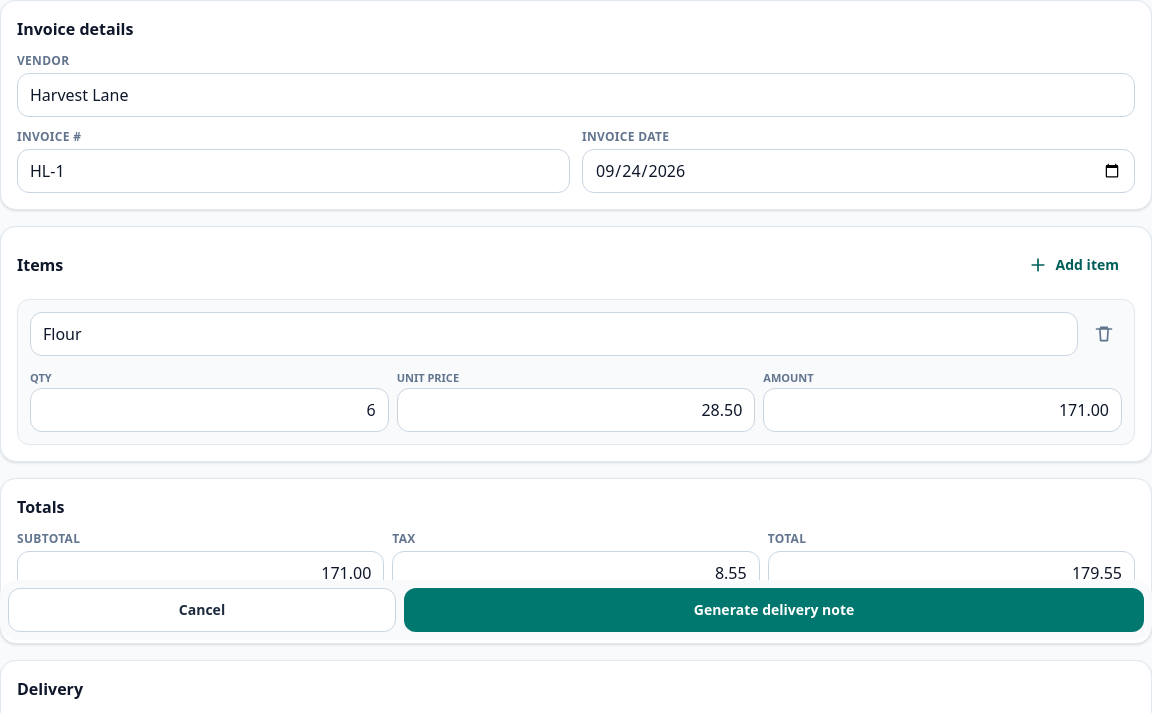
Test: ReviewForm › lets you remove an item
Click the button named "remove item 1" at (1104, 334), box [1086,316,1122,352]
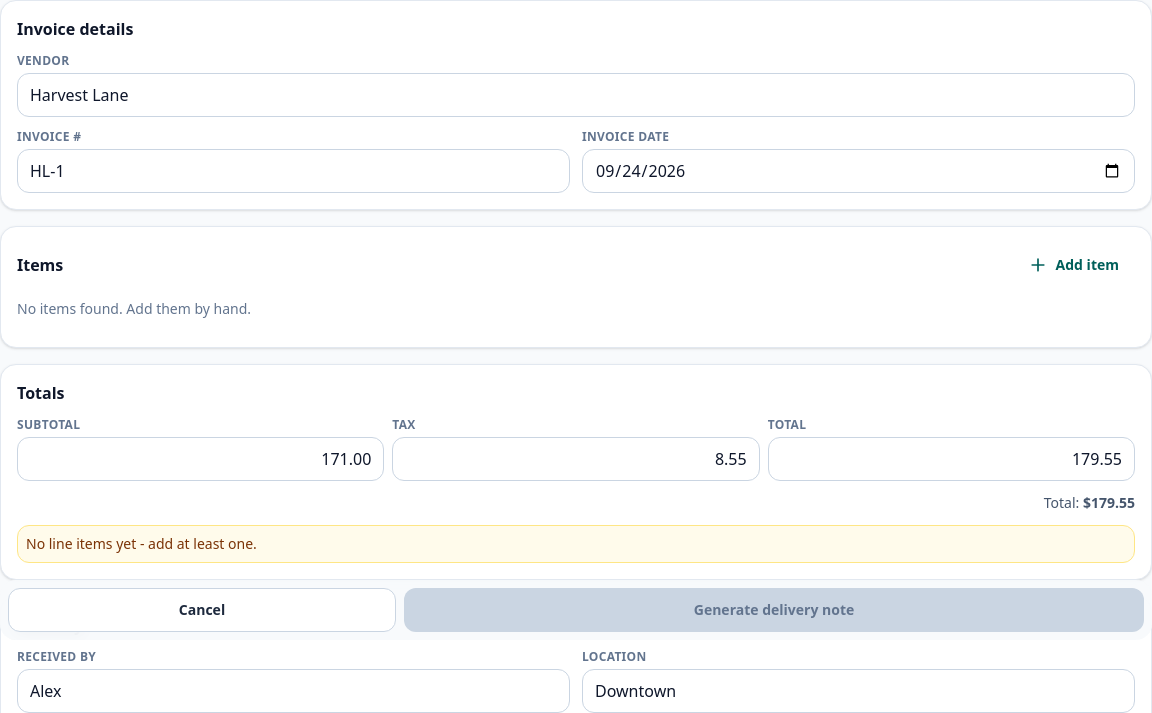
Expected: no list items with test id "item-row" are shown
